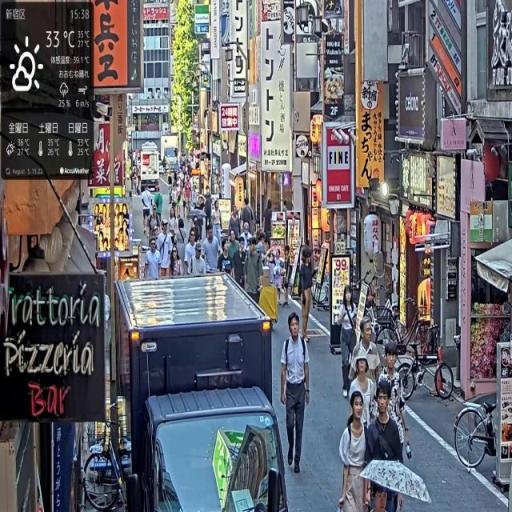person: (280, 311, 313, 478), (366, 382, 405, 511), (339, 392, 372, 512), (334, 285, 360, 401), (348, 351, 379, 429), (352, 319, 383, 388), (298, 245, 317, 343), (157, 220, 175, 278), (203, 227, 222, 273), (145, 240, 163, 281), (186, 230, 199, 275)
